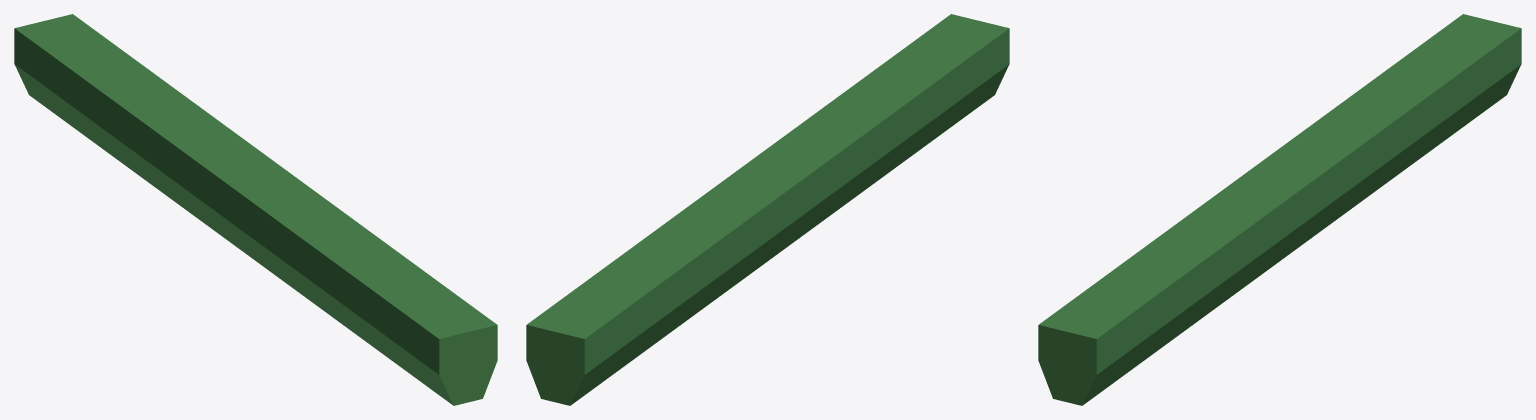
Rendered from ceiling light.fbx.
3 renders of one model, left to right at view 1: azimuth 30°, elevation 25°; view 2: azimuth 150°, elevation 25°; view 3: azimuth 330°, elevation 25°, orthographic.
Visible parts, largest first — view 1: pCylinder12; view 2: pCylinder12; view 3: pCylinder12.
Part boxes in pixels (x1=…): pCylinder12: x1=14, y1=14, x2=497, y2=405; pCylinder12: x1=526, y1=14, x2=1009, y2=405; pCylinder12: x1=1038, y1=14, x2=1521, y2=405.
Bounding box in the file's own units: 0.8592 × 0.9909 × 10.83.
